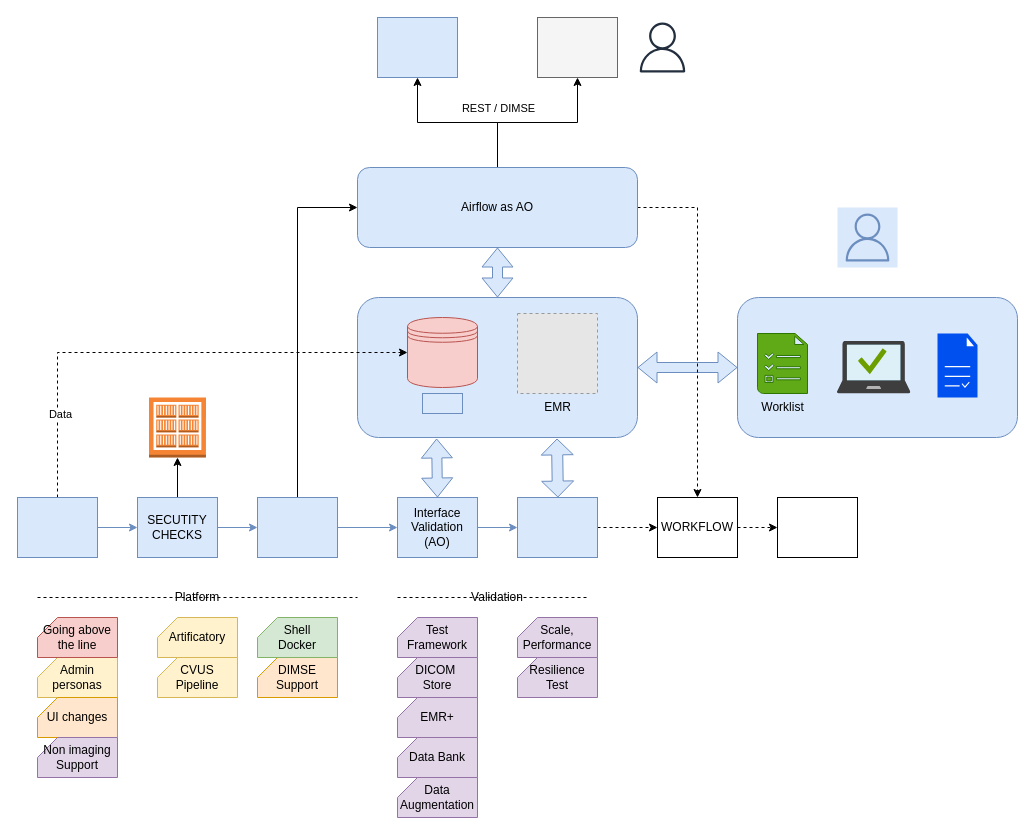
Some shapes in this 1035 by 835 pixel diagram are drawn without their labels. Grey dashed boxes stand in for pictures. The shapes that lost their labels are listed below. From the top down, each one's centre as x and y in pixels, then its label:
the point at 417,47: Ecosystem Cluster
the point at 577,47: Sandbox/ Light
the point at 662,47: 3P
the point at 867,237: GE BU
the point at 873,367: VIEWER
the point at 957,365: Report
the point at 442,403: PACS
the point at 57,527: SFTP
the point at 297,527: DEPLOY
the point at 557,527: Perf Scale Resilience
the point at 817,527: VNV
